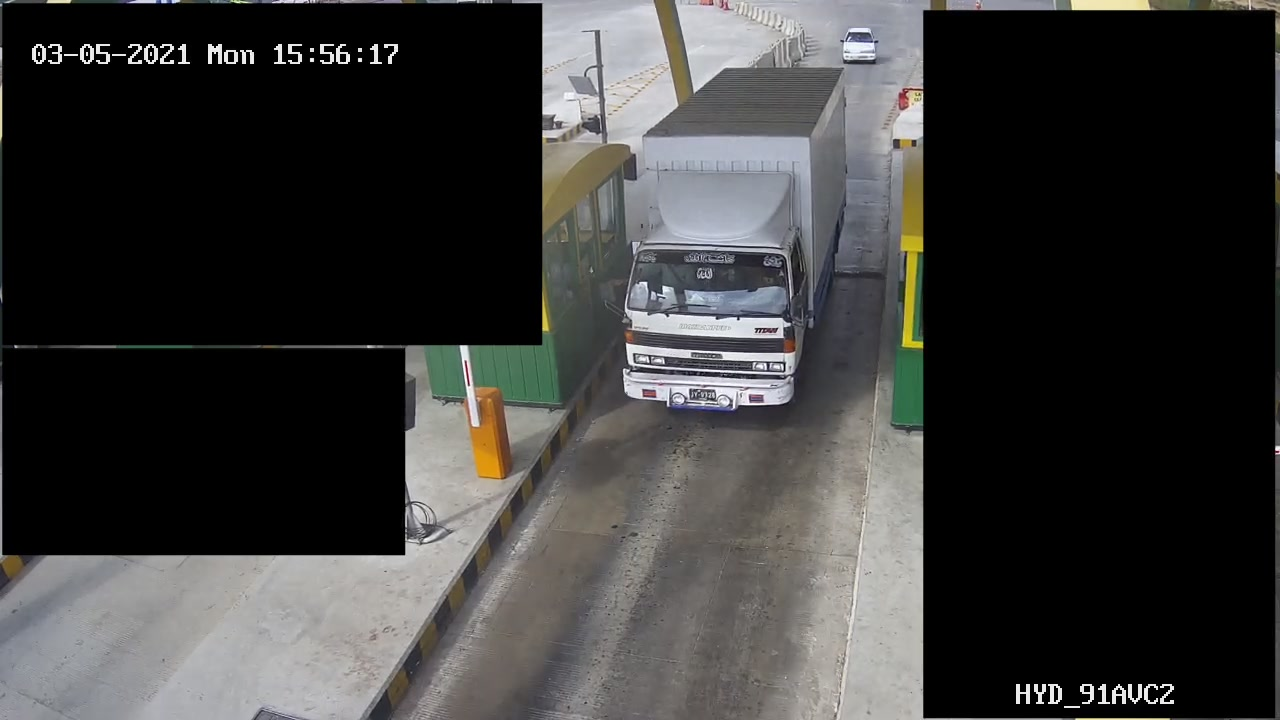F5: (602, 57, 856, 413)
